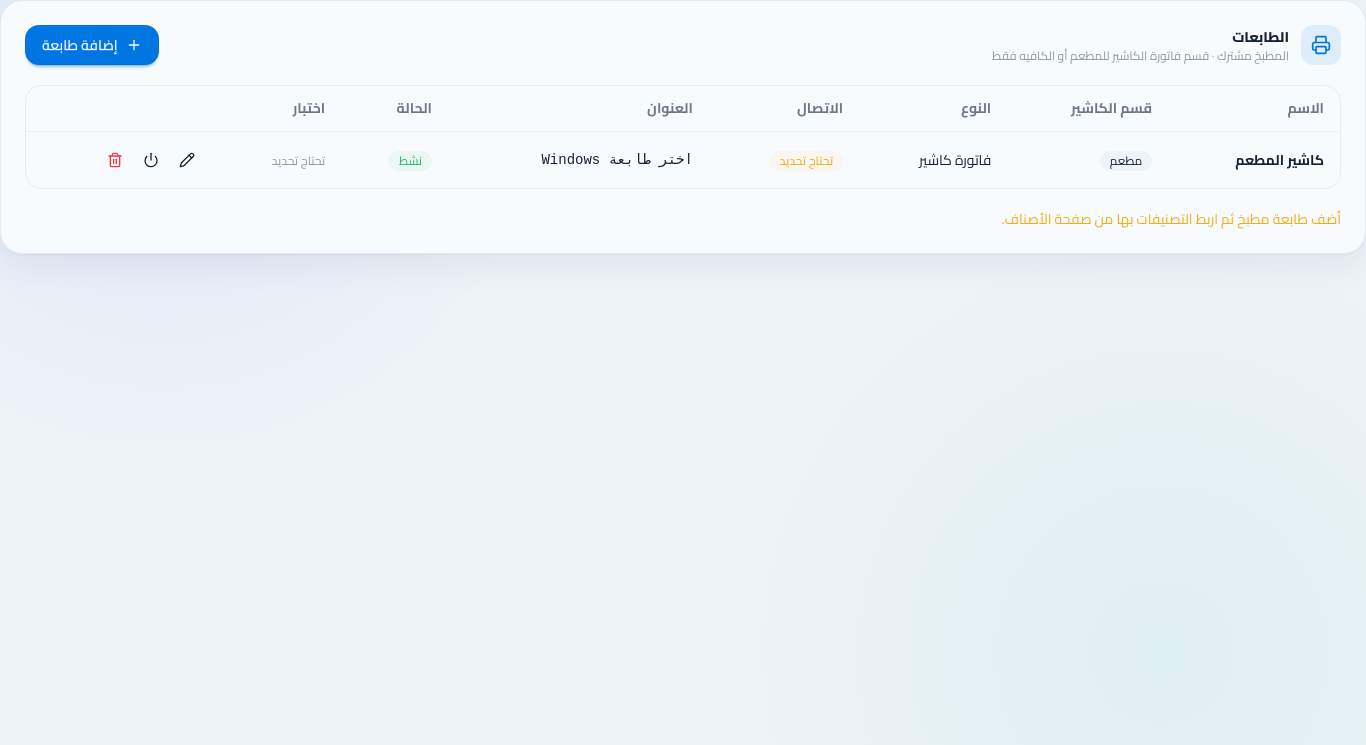
Test case: PrintersAdmin auto print › shows the auto print checkbox checked for a local auto-print printer
Click the button titled "تعديل" at {"x": 188, "y": 160}, box 172,144 -> 204,176
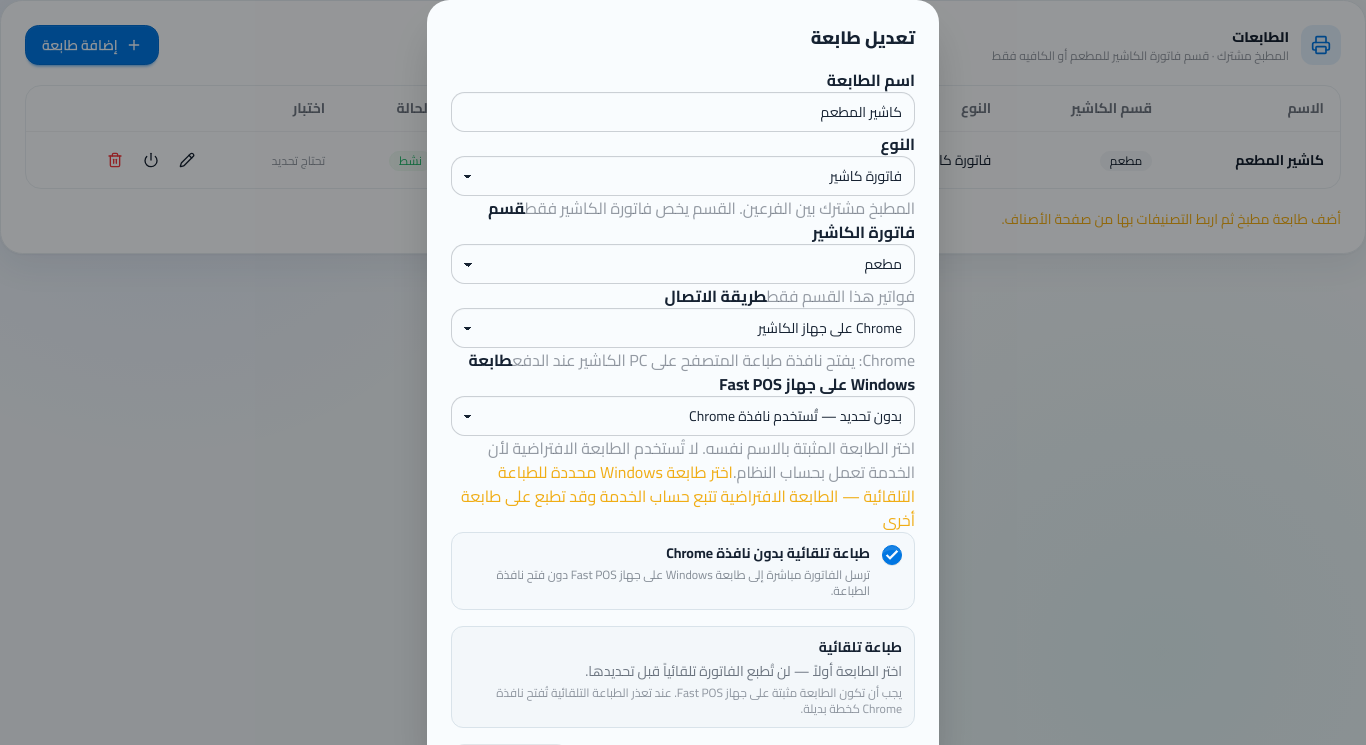
Check: the dropdown named "host" is shown, box 451,396 -> 915,436
Check: the checkbox named "autoPrint" is checked, box 882,545 -> 902,565
Check: the text "طباعة تلقائية بدون نافذة Chrome" is shown, box 666,540 -> 870,566
